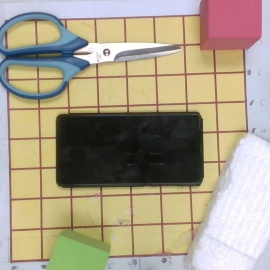phone: (54, 111, 205, 188)
